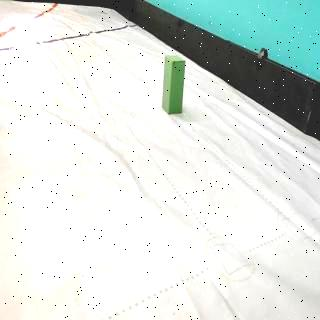greenbox: (163, 55, 187, 115)
